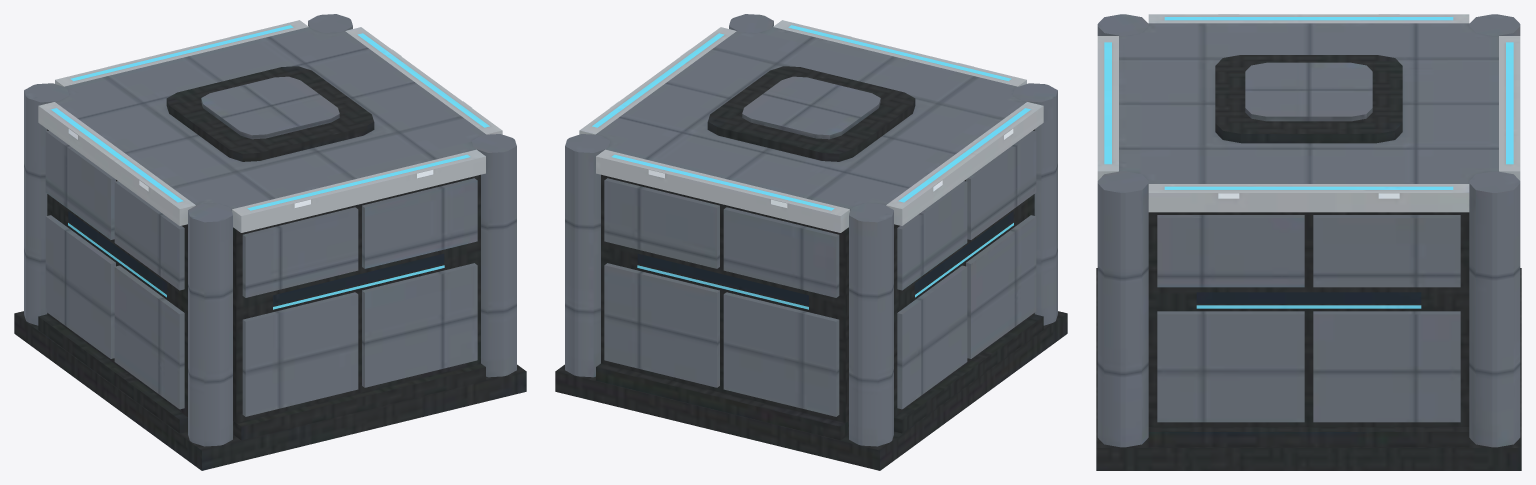
The model's file is hull_enterprise_hull_armored_closed.glb.
3 renders of one model, left to right at view 1: azimuth 30°, elevation 25°; view 2: azimuth 150°, elevation 25°; view 3: azimuth 270°, elevation 25°, orthographic. The views are drawn at different scales.
Parts seen in each view (by area): view 1: te_hull_enterprise_hull_armored_closed; view 2: te_hull_enterprise_hull_armored_closed; view 3: te_hull_enterprise_hull_armored_closed.
Part boxes in pixels (left/top/right/bottom): te_hull_enterprise_hull_armored_closed: left=14, top=14, right=526, bottom=470; te_hull_enterprise_hull_armored_closed: left=555, top=14, right=1067, bottom=470; te_hull_enterprise_hull_armored_closed: left=1096, top=14, right=1521, bottom=470.
Size of the model in its own units: 1 by 0.756 by 1.
Materials: 1 (1 with a texture image).
